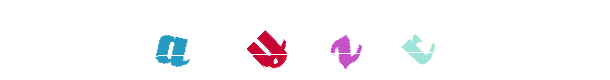A: (131, 0, 211, 80)
R: (302, 0, 382, 80)
Y: (228, 0, 308, 80)
Z: (267, 0, 347, 80)
